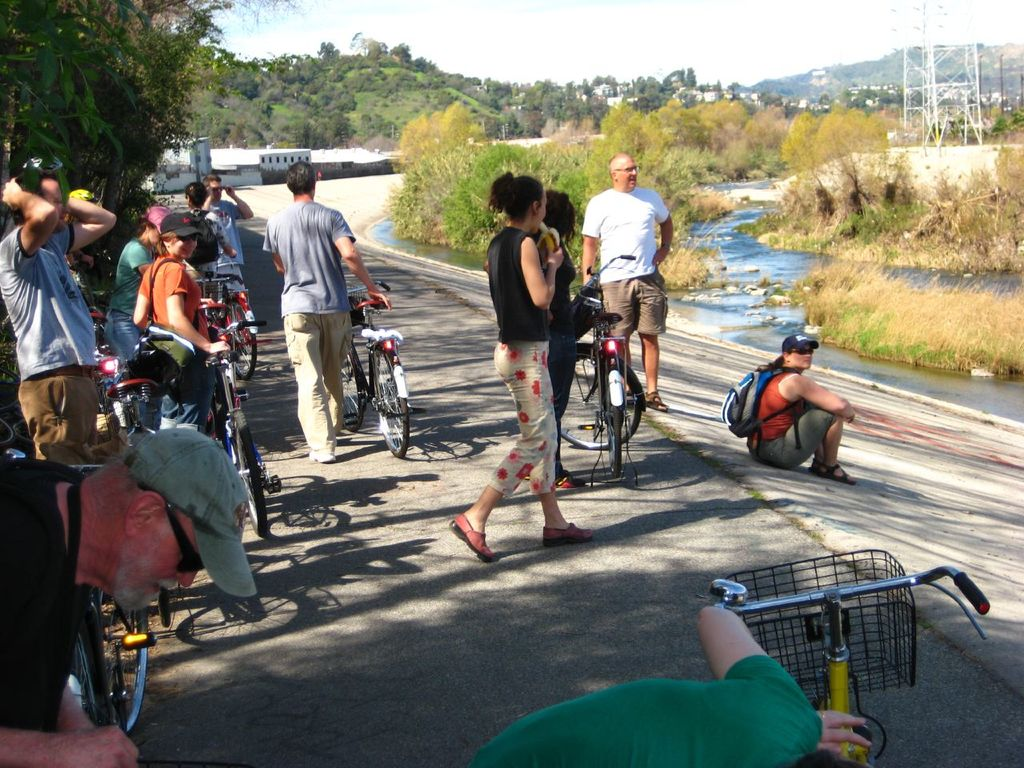Bicycle: (693, 546, 990, 767), (0, 431, 148, 738), (99, 332, 181, 634), (563, 279, 664, 488), (205, 318, 285, 536), (340, 280, 432, 460), (202, 248, 258, 386), (190, 276, 233, 423), (92, 285, 126, 464), (0, 362, 28, 448)
